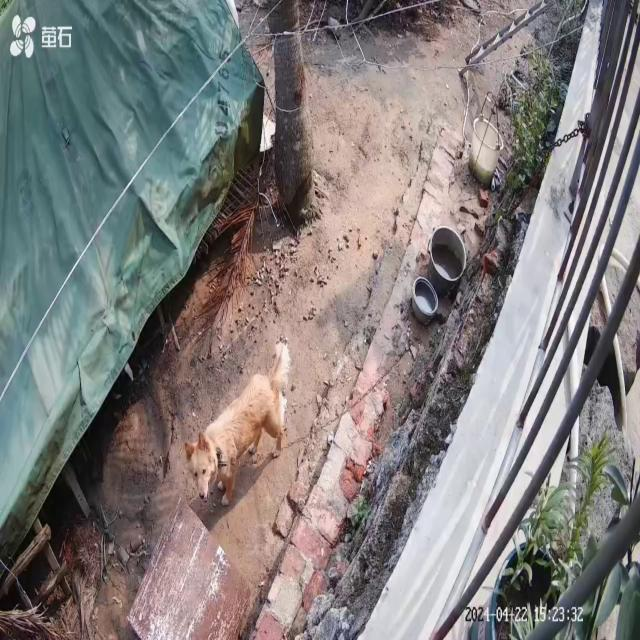dog: (185, 343, 292, 508)
